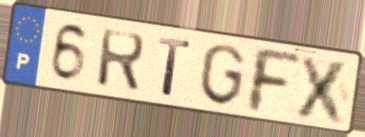6: (48, 22, 90, 85)
F: (247, 44, 303, 116)
G: (197, 42, 247, 109)
R: (94, 27, 148, 95)
T: (156, 35, 193, 100)
X: (292, 53, 354, 128)
